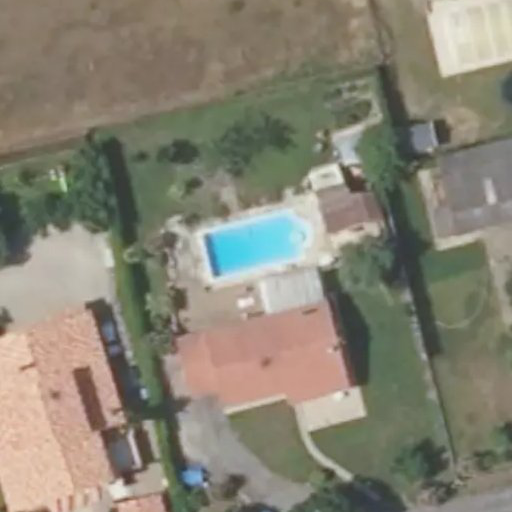pool: (200, 229, 317, 250)
